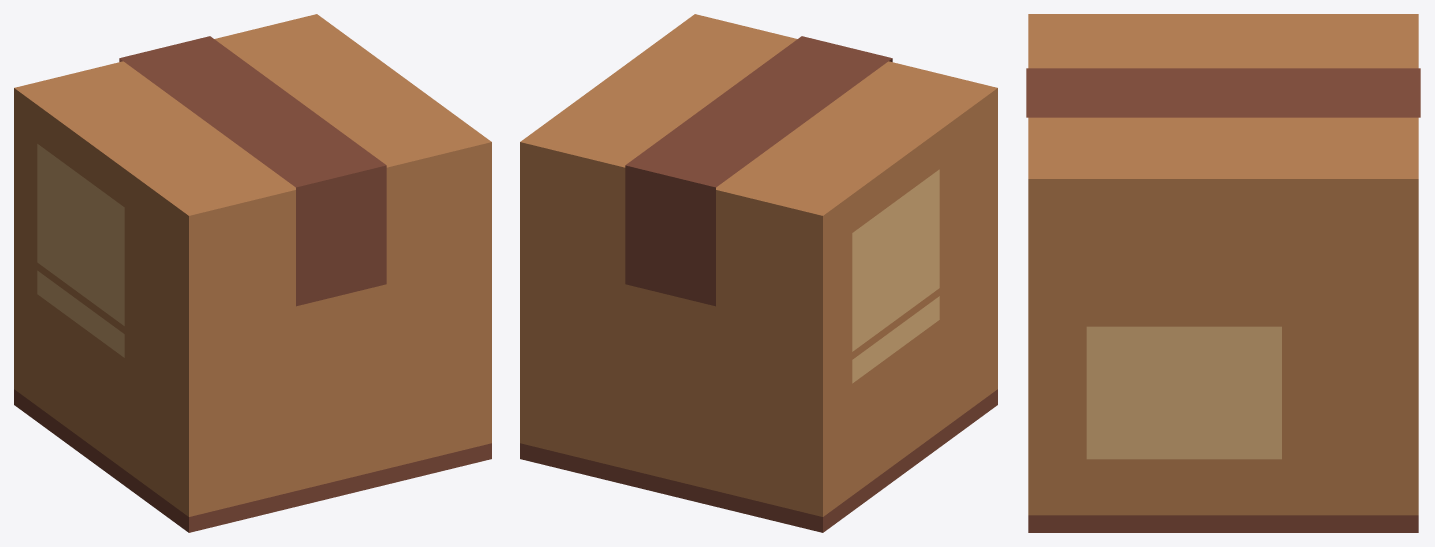
File: G01_014_BoxB.fbx
3 views of the same model, side by side, from view 1: azimuth 30°, elevation 25°; view 2: azimuth 150°, elevation 25°; view 3: azimuth 270°, elevation 25° (orthographic). The views are drawn at different scales.
Visible parts, largest first — view 1: 005_Box_Brown, 平面.043, 平面.044, 平面.045; view 2: 005_Box_Brown, 平面.043, 平面.044, 平面.045; view 3: 005_Box_Brown, 平面.047, 平面.043.
Part boxes in pixels (box(x1,y1,x2,y2)): 005_Box_Brown: box(14, 14, 491, 532); 平面.043: box(119, 36, 386, 306); 平面.044: box(37, 144, 124, 325); 平面.045: box(37, 270, 124, 357); 005_Box_Brown: box(520, 14, 997, 532); 平面.043: box(625, 36, 892, 306); 平面.044: box(852, 169, 939, 351); 平面.045: box(852, 296, 939, 383); 005_Box_Brown: box(1028, 14, 1418, 532); 平面.047: box(1086, 326, 1281, 459); 平面.043: box(1026, 68, 1420, 117).
Size of the model in its own units: 102 by 101 by 101.
